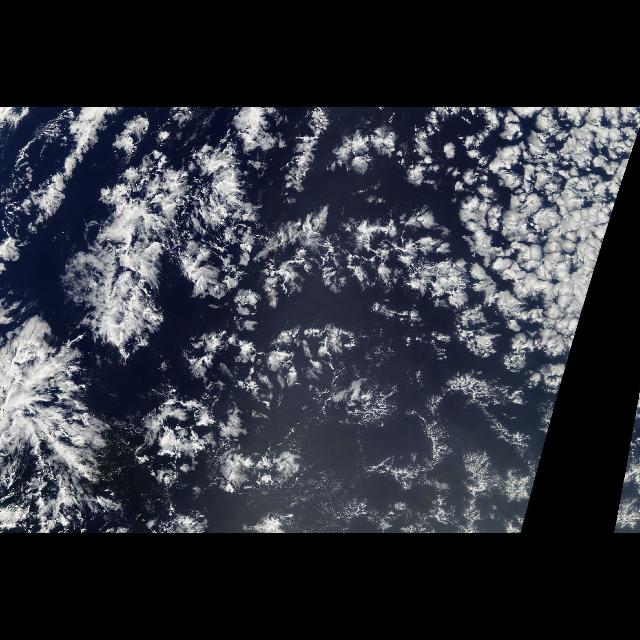Flower: (96, 112, 636, 506), (620, 406, 636, 494)
Gravel: (163, 325, 542, 531)
